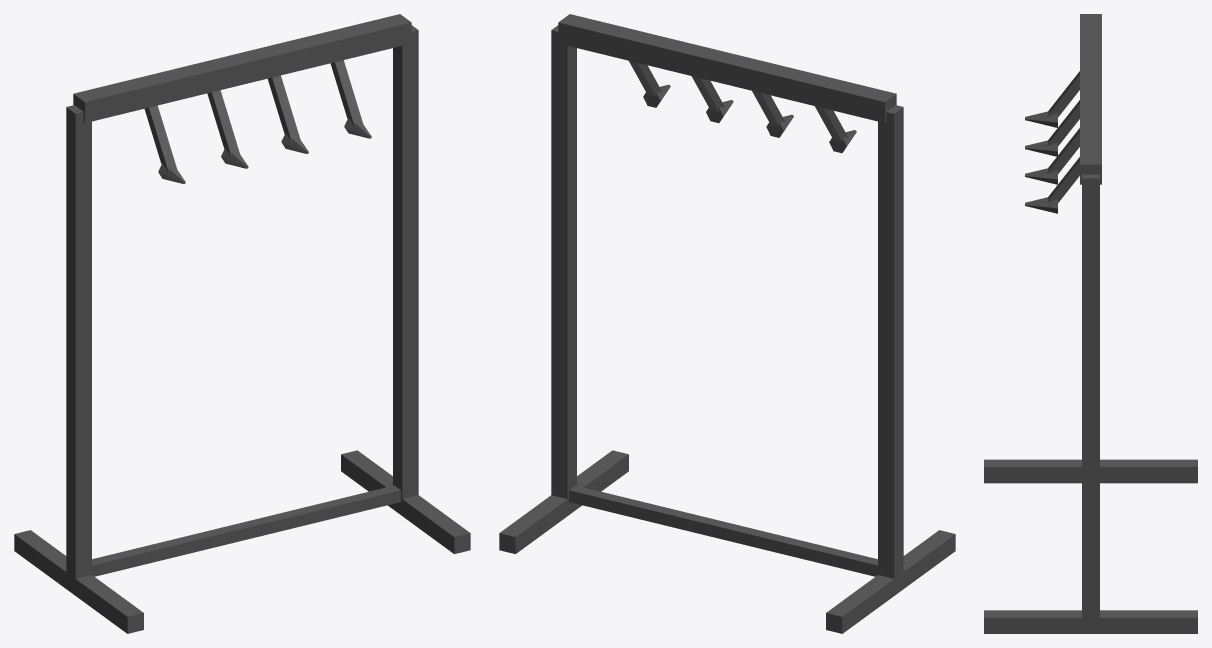
File: meat_spike.glb
3 views of the same model, side by side, from view 1: azimuth 30°, elevation 25°; view 2: azimuth 150°, elevation 25°; view 3: azimuth 270°, elevation 25° (orthographic). The views are drawn at different scales.
Parts seen in each view (by area): view 1: Spike_Frame, Installed_Spikes; view 2: Spike_Frame, Installed_Spikes; view 3: Spike_Frame, Installed_Spikes.
Boxes of the visible parts, <box> form: Spike_Frame: <box>14,14,470,633</box>; Installed_Spikes: <box>144,60,371,183</box>; Spike_Frame: <box>499,14,955,633</box>; Installed_Spikes: <box>629,61,856,153</box>; Spike_Frame: <box>984,14,1197,633</box>; Installed_Spikes: <box>1025,71,1079,213</box>.
Size of the model in its own units: 1.37 by 1.87 by 0.78.
1 material, 1 textured.
